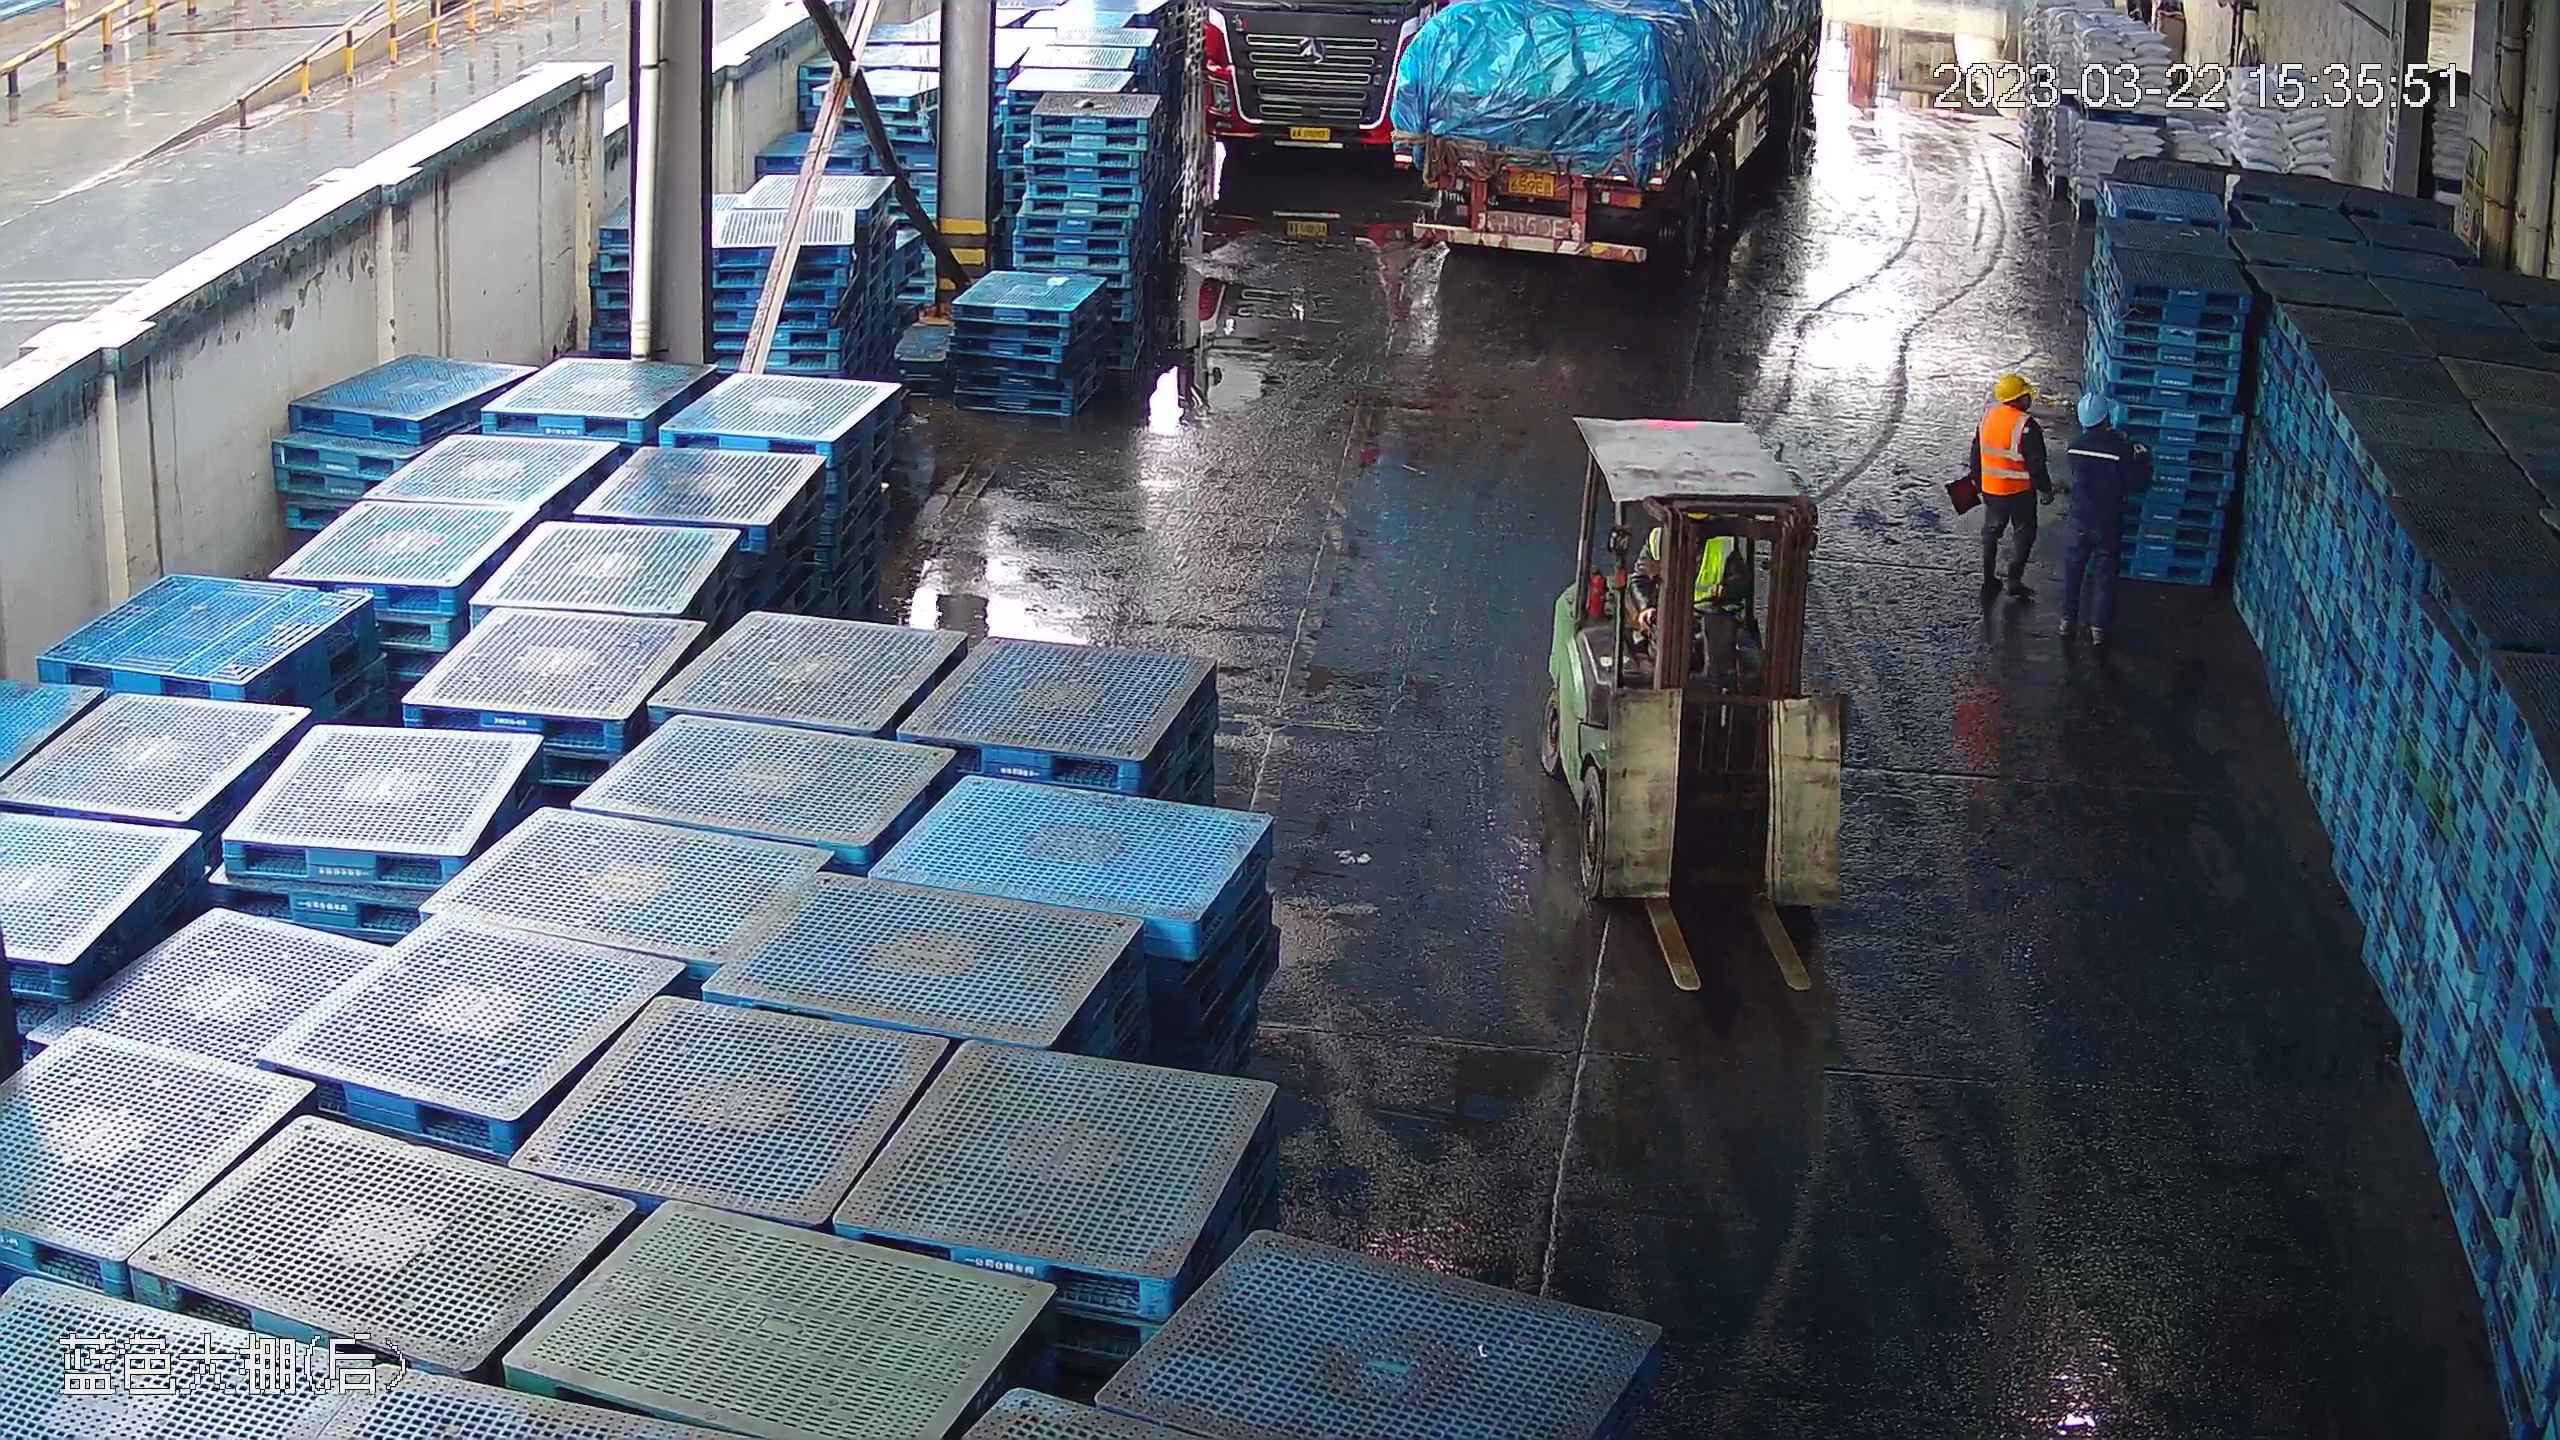head: (1970, 370, 2055, 459), (2060, 389, 2139, 468)
helmet: (1993, 369, 2036, 405), (2079, 395, 2118, 427)
people: (1950, 367, 2058, 633), (2056, 382, 2151, 659)
truck: (1383, 1, 1828, 258), (1203, 12, 1434, 167)
